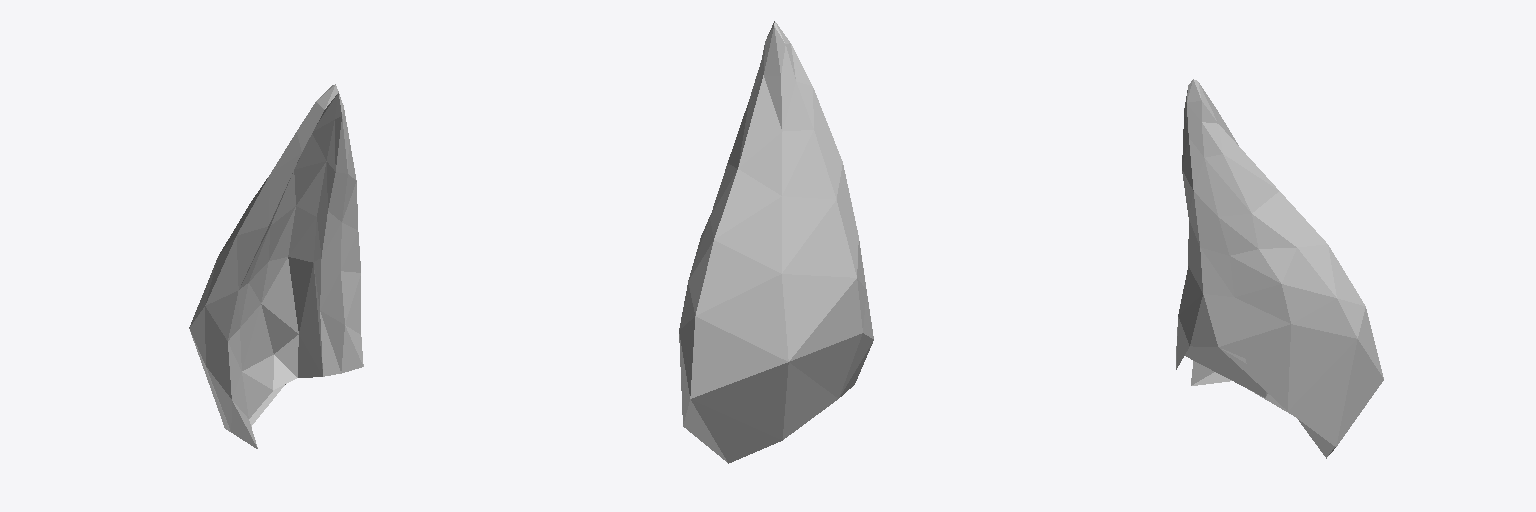
Rendered from ear.obj.
3 renders of one model, left to right at view 1: azimuth 30°, elevation 25°; view 2: azimuth 150°, elevation 25°; view 3: azimuth 270°, elevation 25°, orthographic.
Visible parts, largest first — view 1: Fox_ears_mesh_Fox_ears, Fox_ears_mesh.001_Fox_ears.001; view 2: Fox_ears_mesh.001_Fox_ears.001; view 3: Fox_ears_mesh.001_Fox_ears.001, Fox_ears_mesh_Fox_ears.
Boxes of the visible parts, <box> form: Fox_ears_mesh_Fox_ears: <box>228,93,341,447</box>; Fox_ears_mesh.001_Fox_ears.001: <box>189,84,363,448</box>; Fox_ears_mesh.001_Fox_ears.001: <box>679,21,873,463</box>; Fox_ears_mesh.001_Fox_ears.001: <box>1176,79,1383,458</box>; Fox_ears_mesh_Fox_ears: <box>1185,346,1267,397</box>.
Size of the model in its own units: 1.45 by 3.71 by 1.8.